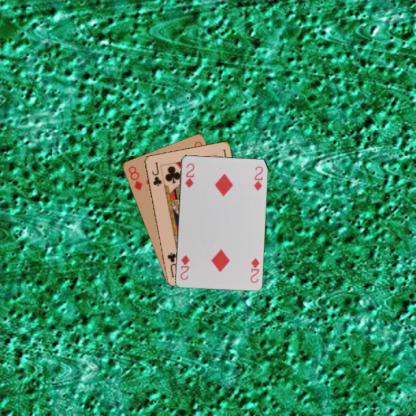2d: (248, 255, 260, 284), (183, 161, 195, 189)
8d: (126, 163, 144, 192)
Jc: (149, 160, 163, 187)
